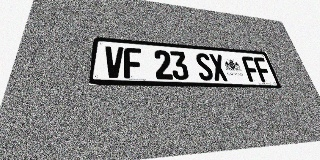2: (154, 50, 173, 80)
3: (170, 51, 189, 80)
F: (124, 47, 142, 79), (241, 56, 261, 82), (253, 57, 273, 82)
S: (194, 53, 214, 81)
V: (104, 46, 123, 78)
X: (208, 54, 229, 81)
